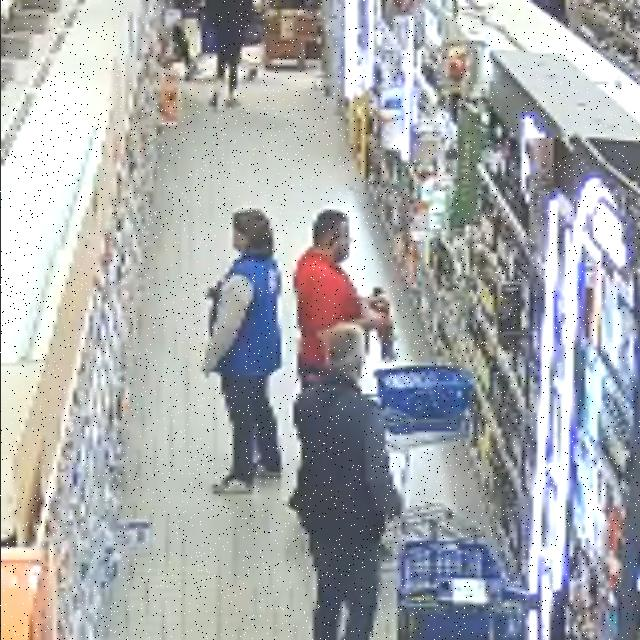article: (381, 327, 398, 361), (372, 299, 389, 317)
hands: (362, 306, 390, 330), (362, 293, 386, 308), (201, 362, 211, 378)
person: (290, 326, 401, 639), (203, 210, 281, 493), (294, 209, 388, 387)
